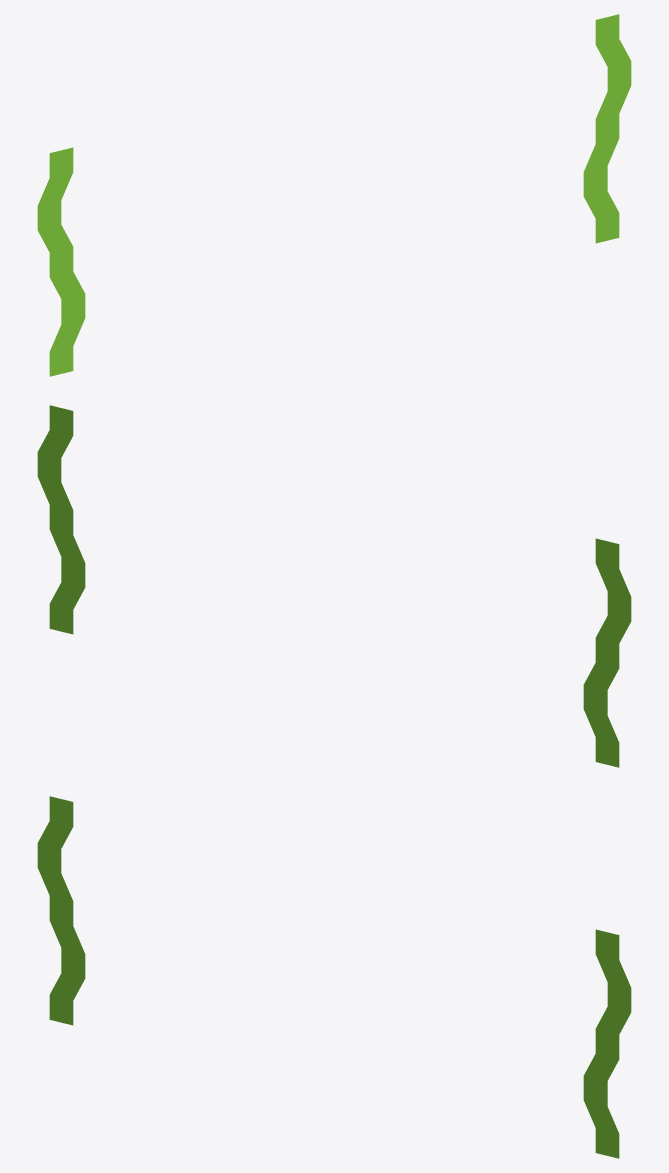
File: seaweed.fbx
3 views of the same model, one above another, from view 1: azimuth 30°, elevation 25°; view 2: azimuth 150°, elevation 25°; view 3: azimuth 330°, elevation 25° (orthographic).
Parts seen in each view (by area): view 1: seaweed; view 2: seaweed; view 3: seaweed.
Part boxes in pixels (bbox=[...]): seaweed: bbox=[37, 14, 631, 376]; seaweed: bbox=[37, 405, 631, 767]; seaweed: bbox=[37, 796, 631, 1158].
Size of the model in its own units: 54 by 2.29e-05 by 18.
